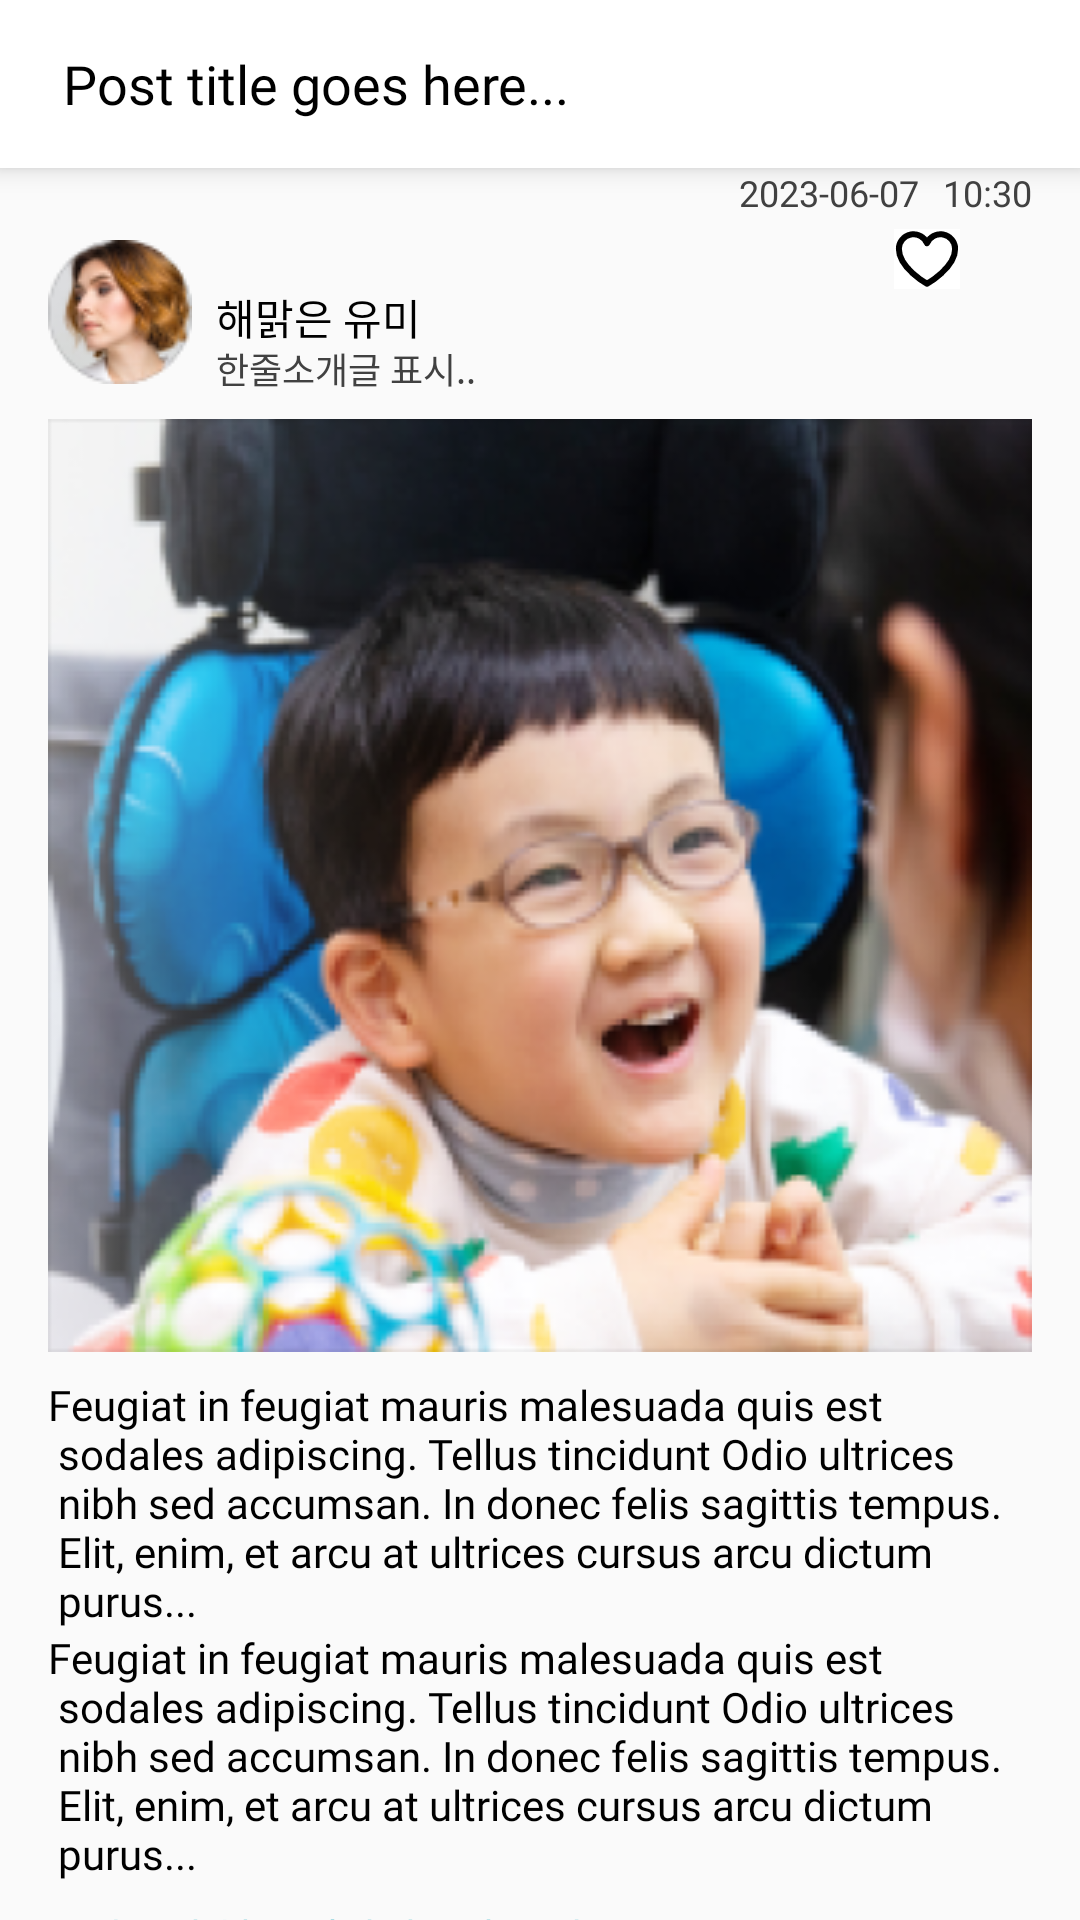

Where to tap for icons on this 1080×1920 app screen, as (x=x, y=y):
allfeed like: (x=927, y=259)
feed profile: (x=120, y=312)
